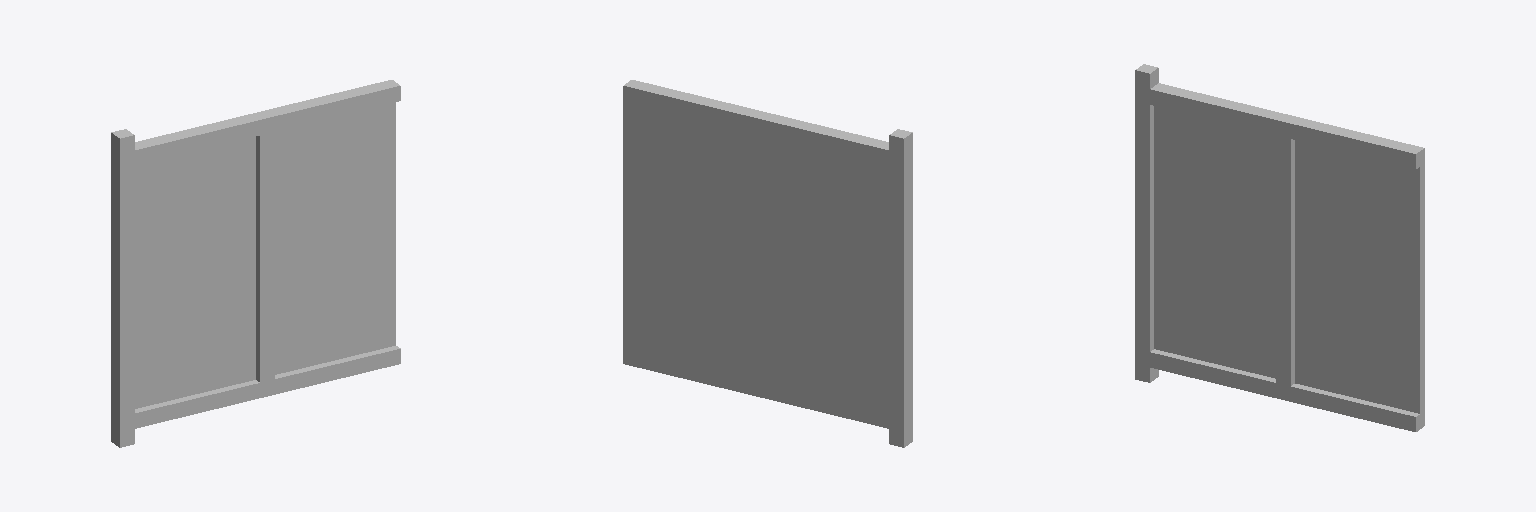
File: SL_Crate2_Side.obj
The picture shows the model from 3 angles: view 1: azimuth 30°, elevation 25°; view 2: azimuth 150°, elevation 25°; view 3: azimuth 330°, elevation 25°; orthographic projection.
Parts seen in each view (by area): view 1: SL_Crate2_Side; view 2: SL_Crate2_Side; view 3: SL_Crate2_Side.
Part boxes in pixels (x1,y1,x2,y2): SL_Crate2_Side: (111,80,400,447); SL_Crate2_Side: (623,80,912,447); SL_Crate2_Side: (1135,64,1424,431).
Size of the model in its own units: 38 by 40 by 2.